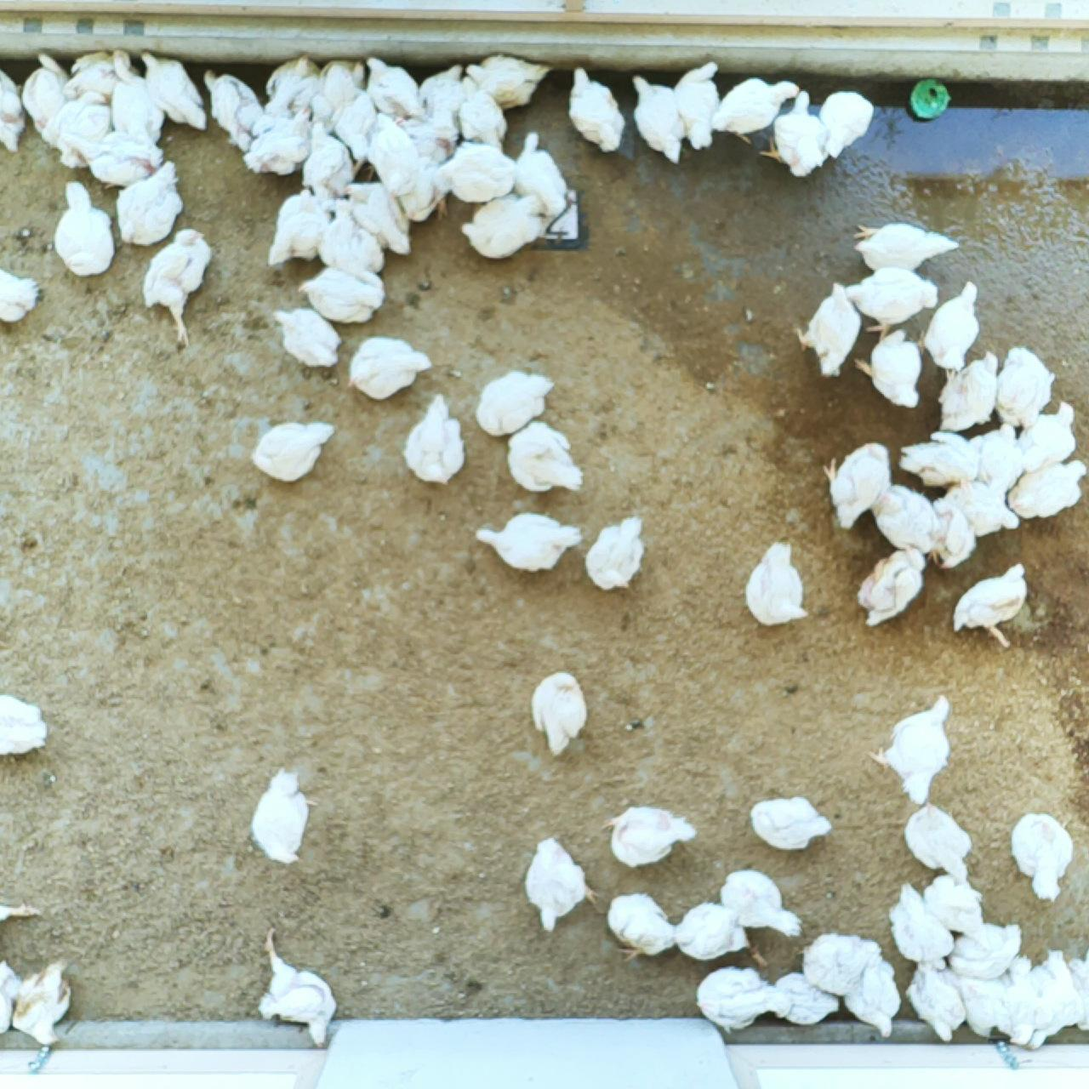chicken: (257, 926, 339, 1052), (868, 690, 955, 805), (142, 226, 214, 347), (841, 265, 940, 347), (522, 836, 603, 932), (1005, 947, 1076, 1051), (949, 559, 1029, 651), (790, 280, 863, 379), (472, 510, 586, 573), (459, 190, 554, 264), (818, 440, 895, 531), (1026, 946, 1089, 1054), (600, 801, 700, 869), (852, 539, 928, 628), (691, 964, 785, 1035), (718, 865, 805, 941), (900, 798, 976, 885), (674, 900, 769, 969), (504, 419, 589, 496), (400, 391, 468, 487), (758, 88, 831, 177), (112, 158, 185, 247), (265, 184, 338, 273), (51, 180, 117, 278), (887, 879, 956, 972), (709, 76, 801, 145), (1006, 810, 1075, 902), (138, 45, 210, 131), (990, 341, 1058, 432), (9, 956, 74, 1050), (344, 334, 435, 401), (921, 868, 993, 952), (250, 765, 311, 864), (250, 418, 338, 486), (62, 128, 166, 185), (295, 262, 389, 325), (742, 539, 809, 627), (920, 280, 983, 373), (896, 425, 986, 490), (514, 132, 579, 222), (473, 368, 556, 438), (108, 45, 167, 143), (851, 328, 922, 409), (850, 221, 961, 272), (432, 139, 519, 204), (565, 63, 627, 154), (203, 66, 267, 154), (463, 52, 556, 112), (42, 91, 113, 169), (903, 958, 967, 1043), (321, 191, 385, 276), (528, 670, 589, 759), (800, 930, 882, 996), (240, 103, 314, 176), (869, 481, 941, 556), (342, 180, 413, 256), (935, 350, 1000, 433), (1017, 398, 1080, 482), (1004, 458, 1088, 521), (605, 890, 678, 962), (948, 964, 1016, 1041), (627, 73, 684, 164), (330, 87, 384, 183), (841, 956, 903, 1039), (365, 105, 420, 196), (748, 794, 834, 852), (948, 919, 1025, 983), (582, 515, 646, 591), (365, 49, 431, 122), (962, 419, 1027, 493), (270, 304, 342, 370), (299, 118, 355, 201), (414, 60, 467, 146), (944, 476, 1022, 533), (19, 50, 71, 135), (673, 60, 720, 151), (817, 88, 876, 159), (770, 970, 843, 1026), (263, 53, 324, 120), (398, 150, 452, 225), (318, 53, 369, 131), (927, 496, 978, 569), (60, 48, 126, 103), (1, 693, 48, 761), (1, 66, 30, 155), (1, 266, 41, 326), (1, 955, 25, 1040), (1, 900, 44, 926)
